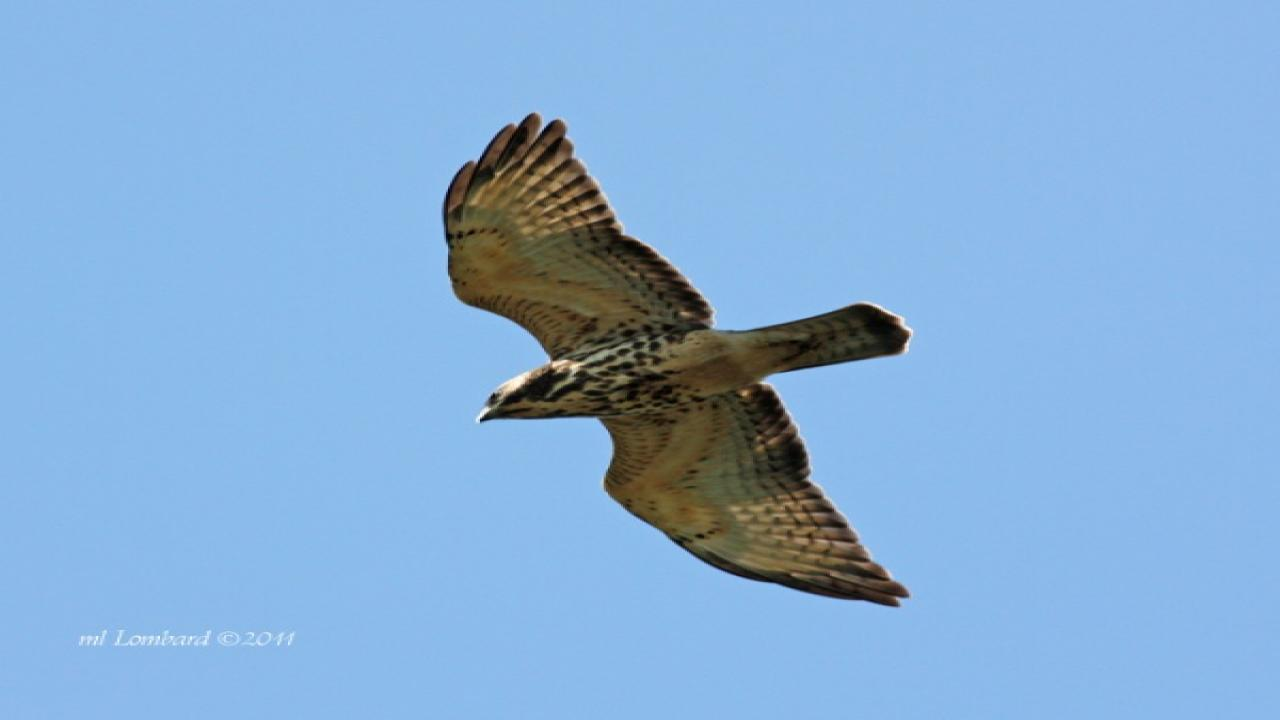Bird: (425, 106, 934, 614)
